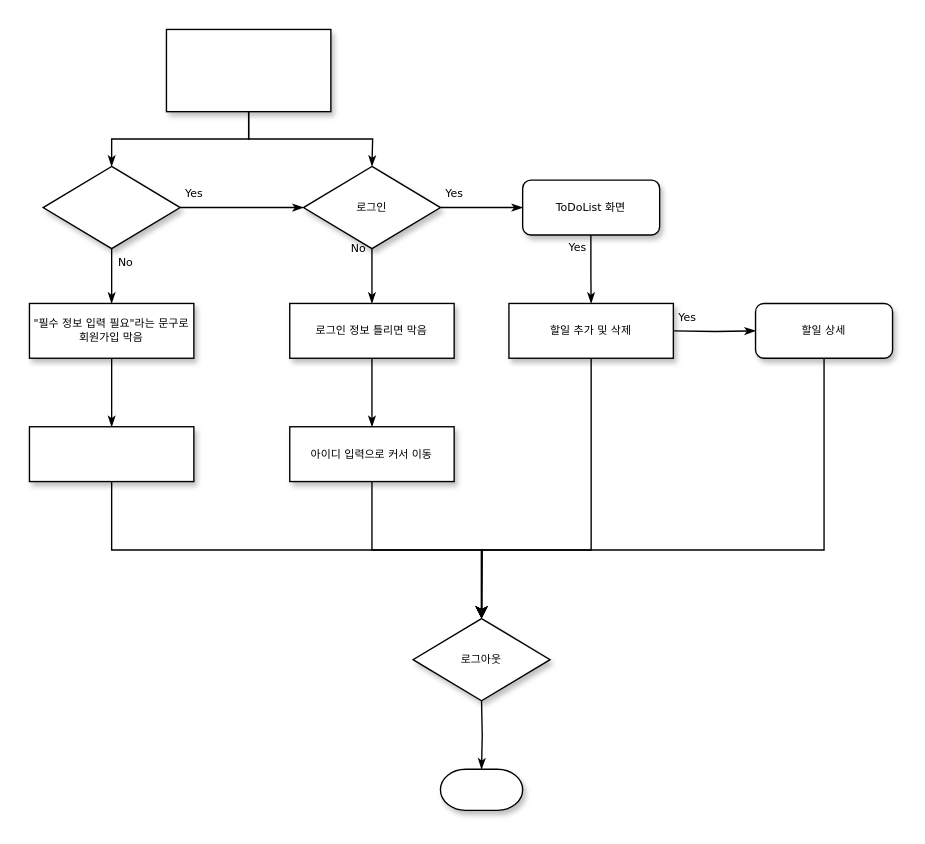
The diagram is 925 pixels wide and 844 high, and some of its shapes have lost their labels. Here are the shapes that lost their labels. From the top down, the centre of each, then its label:
At [249,72]: "오늘 (Oneul)".
At [112,209]: "회원가입".
At [112,455]: "입력되지 않은 정보로 커서 이동".
At [482,791]: "End".
